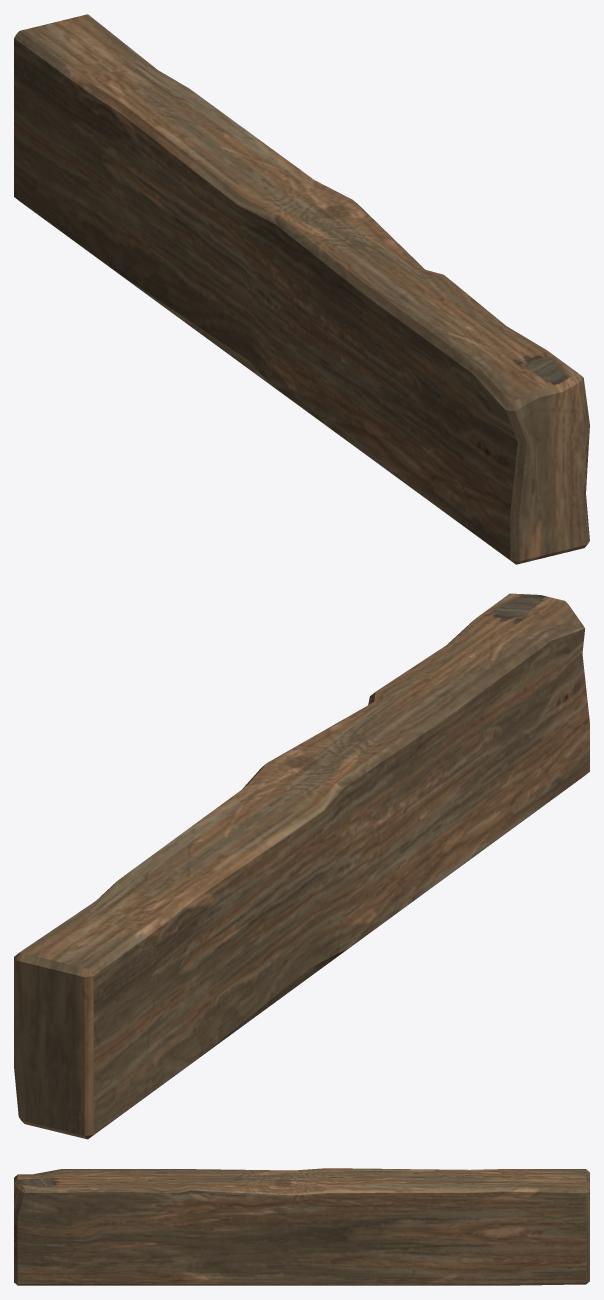
The model's file is SM_roof_top_02.fbx.
3 renders of one model, top to bottom at view 1: azimuth 30°, elevation 25°; view 2: azimuth 150°, elevation 25°; view 3: azimuth 270°, elevation 25°, orthographic. The views are drawn at different scales.
Parts seen in each view (by area): view 1: SM_roof_top_02_LOD0; view 2: SM_roof_top_02_LOD0; view 3: SM_roof_top_02_LOD0.
Part boxes in pixels (x1,y1,x2,y2): SM_roof_top_02_LOD0: [14, 14, 589, 564]; SM_roof_top_02_LOD0: [14, 593, 589, 1139]; SM_roof_top_02_LOD0: [14, 1168, 589, 1285].
Size of the model in its own units: 52.3 by 500 by 93.51.
1 material, 1 textured.
